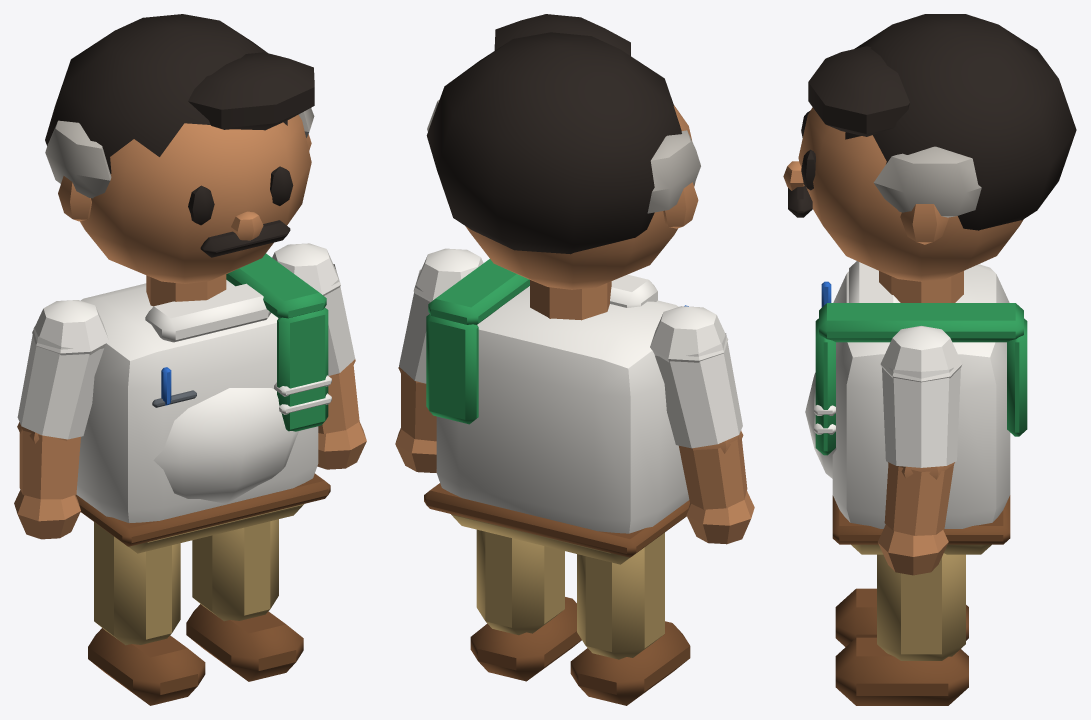
File: gopal.glb
The picture shows the model from 3 angles, left to right: view 1: azimuth 30°, elevation 25°; view 2: azimuth 150°, elevation 25°; view 3: azimuth 270°, elevation 25°; orthographic projection. The views are drawn at different scales.
Visible parts, largest first — view 1: body, head, arm_r, leg_r, leg_l, arm_l; view 2: body, head, arm_r, leg_r, leg_l, arm_l; view 3: head, body, arm_l, leg_l, leg_r.
Boxes of the visible parts, x1=… form: body: x1=75, y1=253, x2=331, y2=553; head: x1=45, y1=14, x2=314, y2=283; arm_r: x1=14, y1=300, x2=108, y2=539; leg_r: x1=88, y1=522, x2=205, y2=705; leg_l: x1=186, y1=519, x2=303, y2=681; arm_l: x1=272, y1=243, x2=366, y2=469; body: x1=424, y1=259, x2=689, y2=564; head: x1=426, y1=14, x2=700, y2=289; arm_r: x1=650, y1=306, x2=754, y2=544; leg_r: x1=570, y1=532, x2=690, y2=705; leg_l: x1=470, y1=529, x2=581, y2=681; arm_l: x1=395, y1=248, x2=483, y2=472; head: x1=783, y1=14, x2=1076, y2=281; body: x1=805, y1=261, x2=1027, y2=554; arm_l: x1=878, y1=326, x2=962, y2=575; leg_l: x1=835, y1=553, x2=968, y2=705; leg_r: x1=835, y1=588, x2=968, y2=646.
Bounding box in the file's own units: 0.604 × 1.05 × 0.4333.
1 material, 1 textured.
